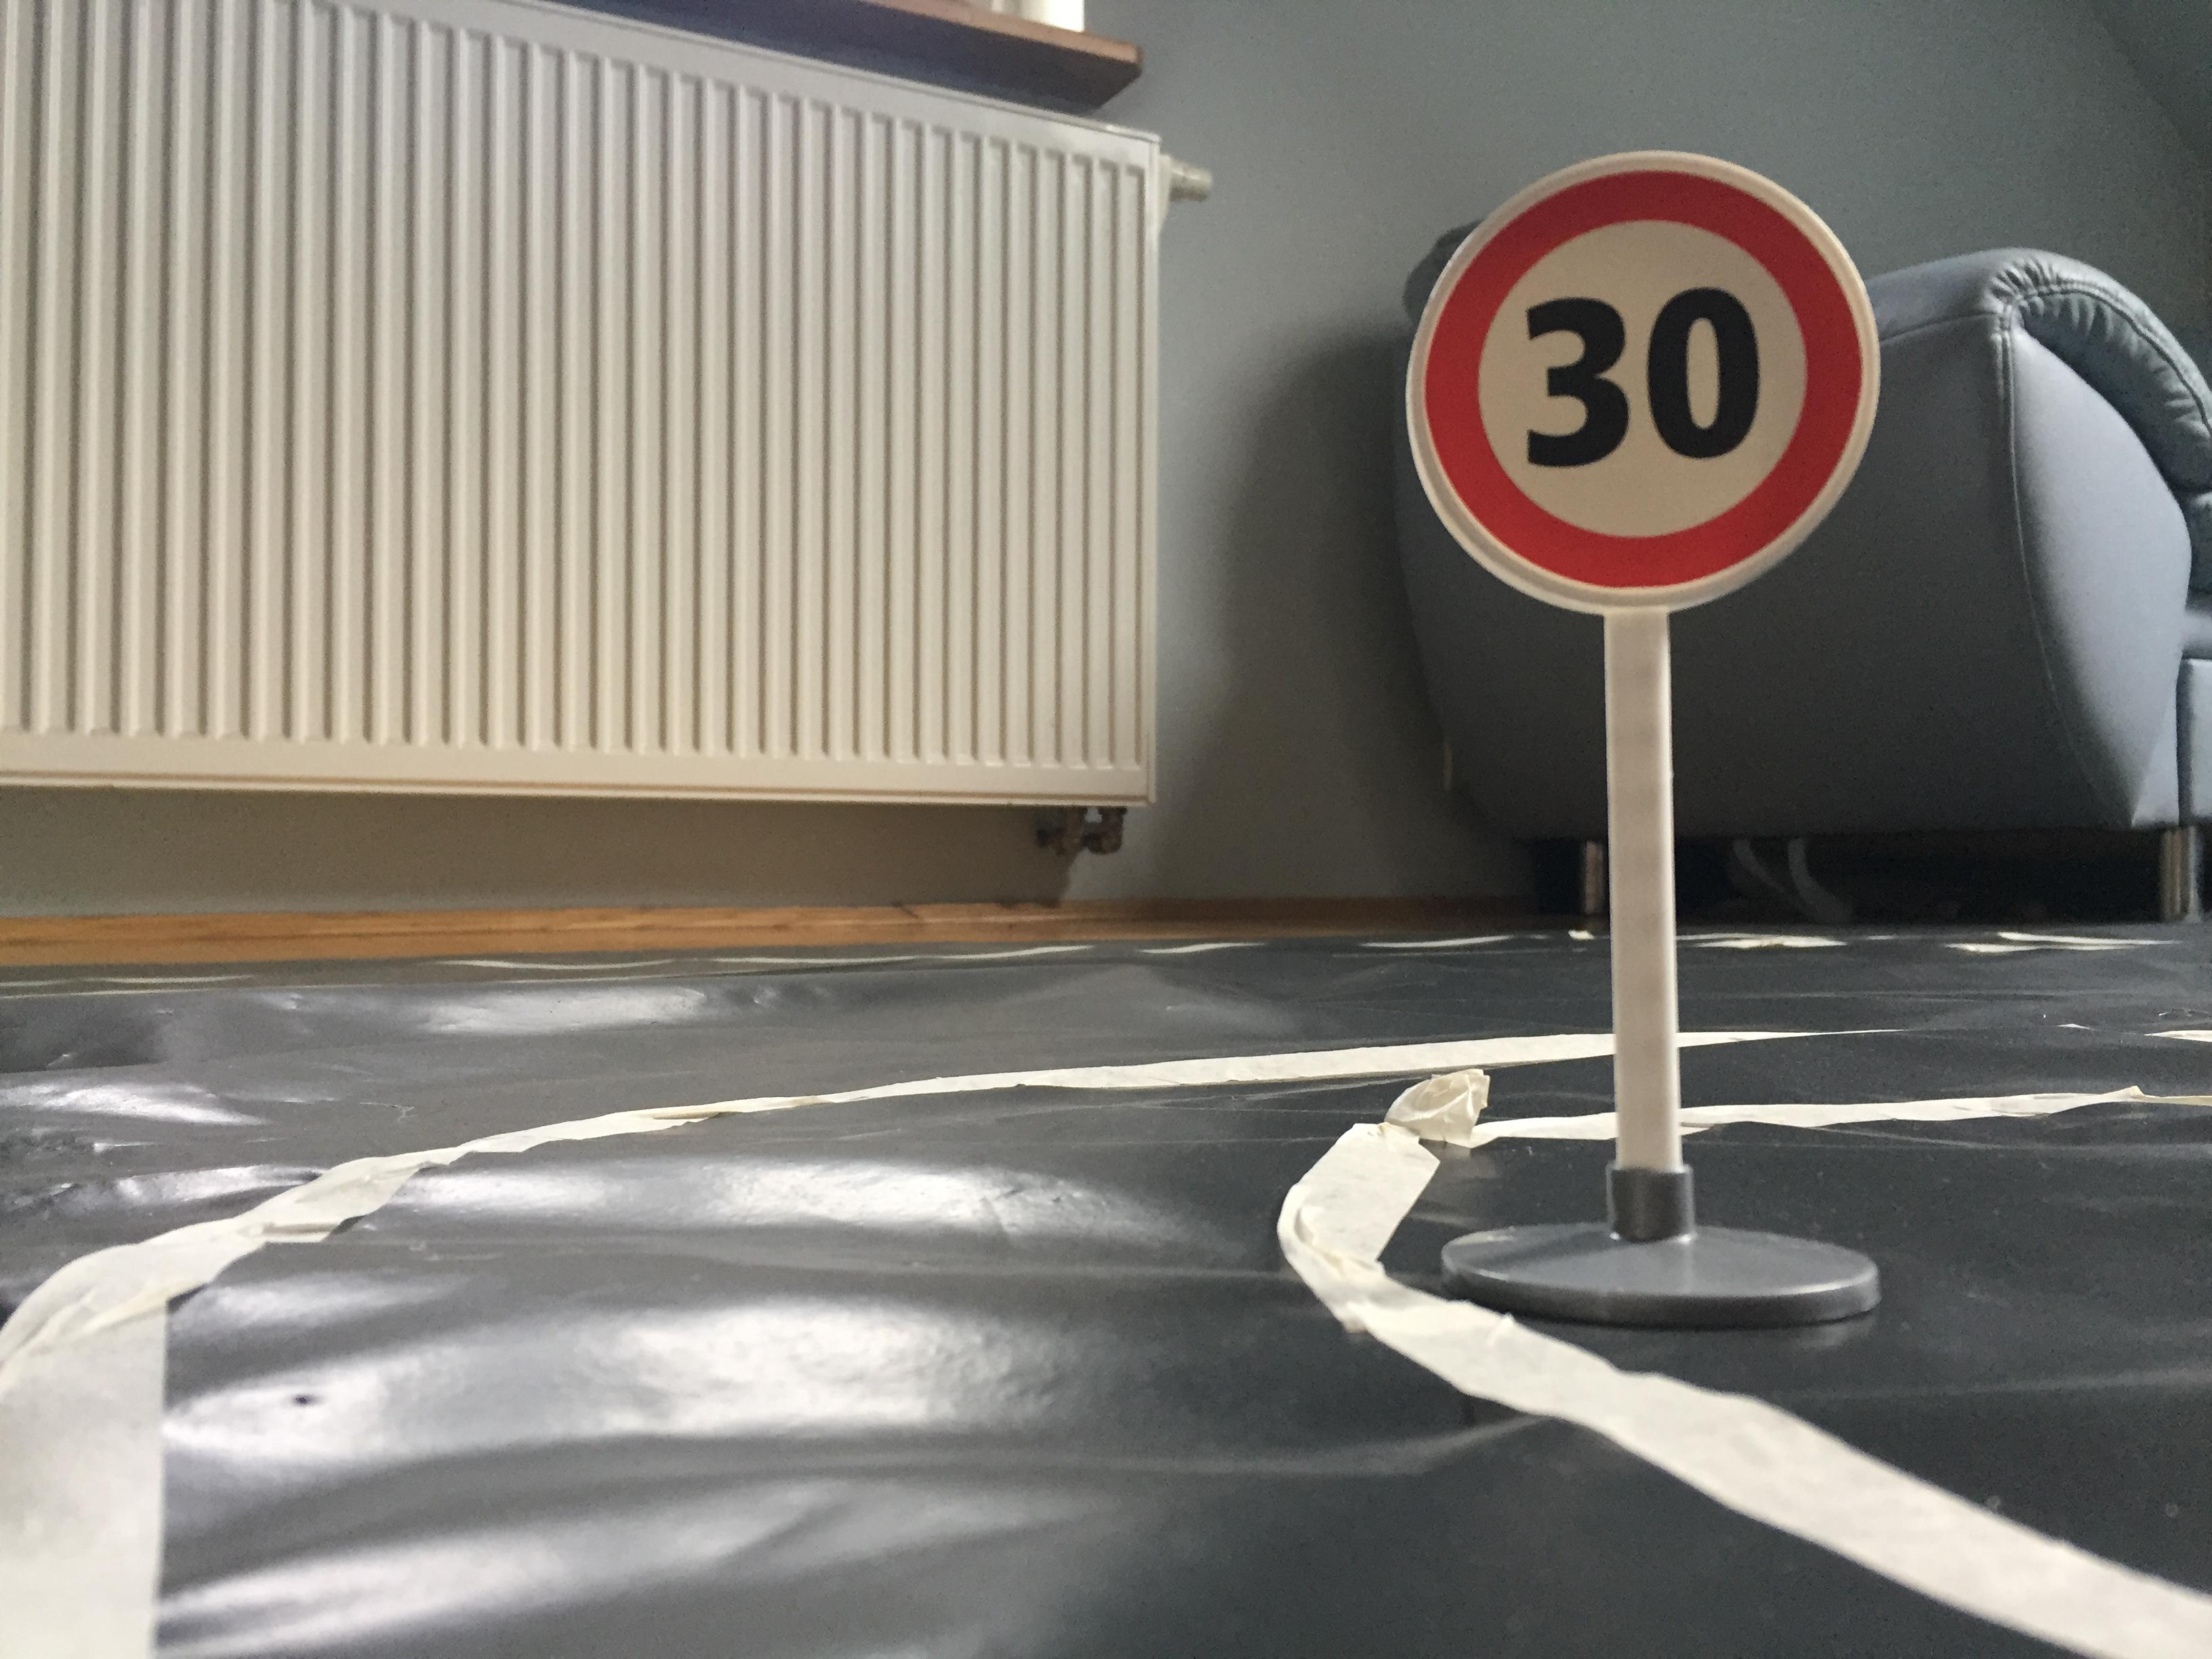speed: (1400, 132, 1892, 627)
